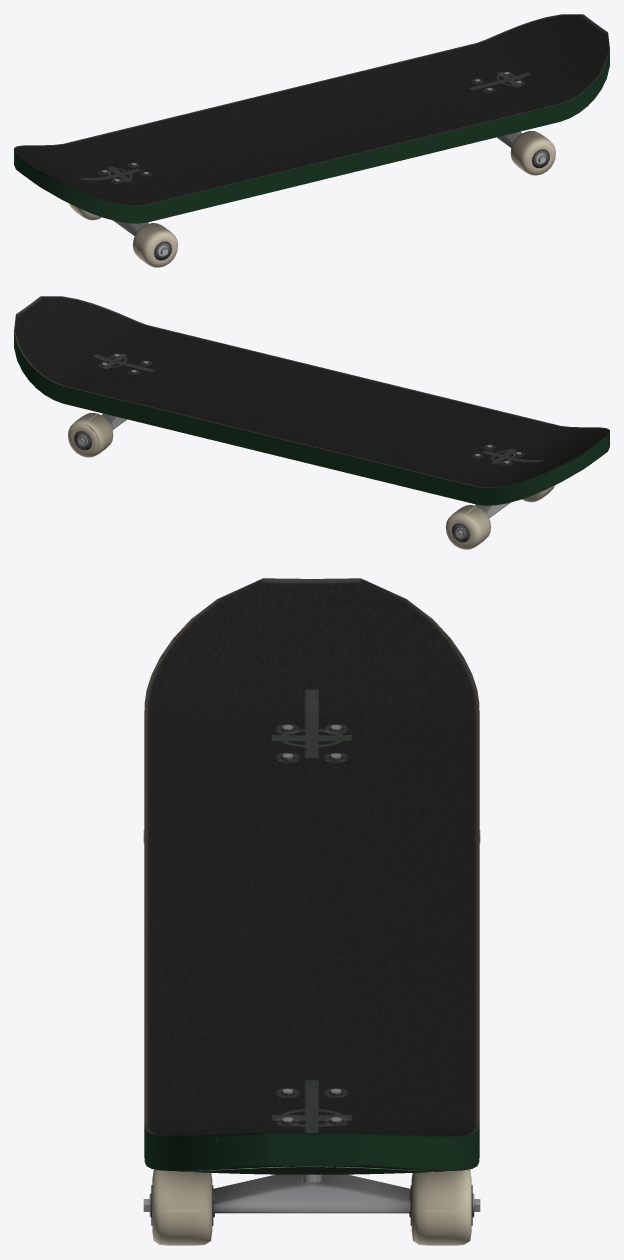
File: SkateboardRovers.fbx
The picture shows the model from 3 angles, top to bottom: view 1: azimuth 30°, elevation 25°; view 2: azimuth 150°, elevation 25°; view 3: azimuth 270°, elevation 25°; orthographic projection. The views are drawn at different scales.
Parts seen in each view (by area): view 1: SkateboardRovers_Main, SkateboardRovers_WheelBR, SkateboardRovers_WheelFR; view 2: SkateboardRovers_Main, SkateboardRovers_WheelBL, SkateboardRovers_WheelFL; view 3: SkateboardRovers_Main, SkateboardRovers_TruckF, SkateboardRovers_WheelFL, SkateboardRovers_WheelFR.
Boxes of the visible parts, x1,y1,x2,y2 form: SkateboardRovers_Main: (14, 14, 609, 223); SkateboardRovers_WheelBR: (132, 223, 178, 267); SkateboardRovers_WheelFR: (510, 130, 555, 175); SkateboardRovers_Main: (14, 296, 609, 505); SkateboardRovers_WheelBL: (445, 505, 491, 549); SkateboardRovers_WheelFL: (68, 412, 113, 457); SkateboardRovers_Main: (144, 578, 479, 1174); SkateboardRovers_TruckF: (213, 1174, 410, 1213); SkateboardRovers_WheelFL: (409, 1169, 480, 1245); SkateboardRovers_WheelFR: (143, 1169, 214, 1245).
Bounding box in the file's own units: 544 × 92.43 × 140.
